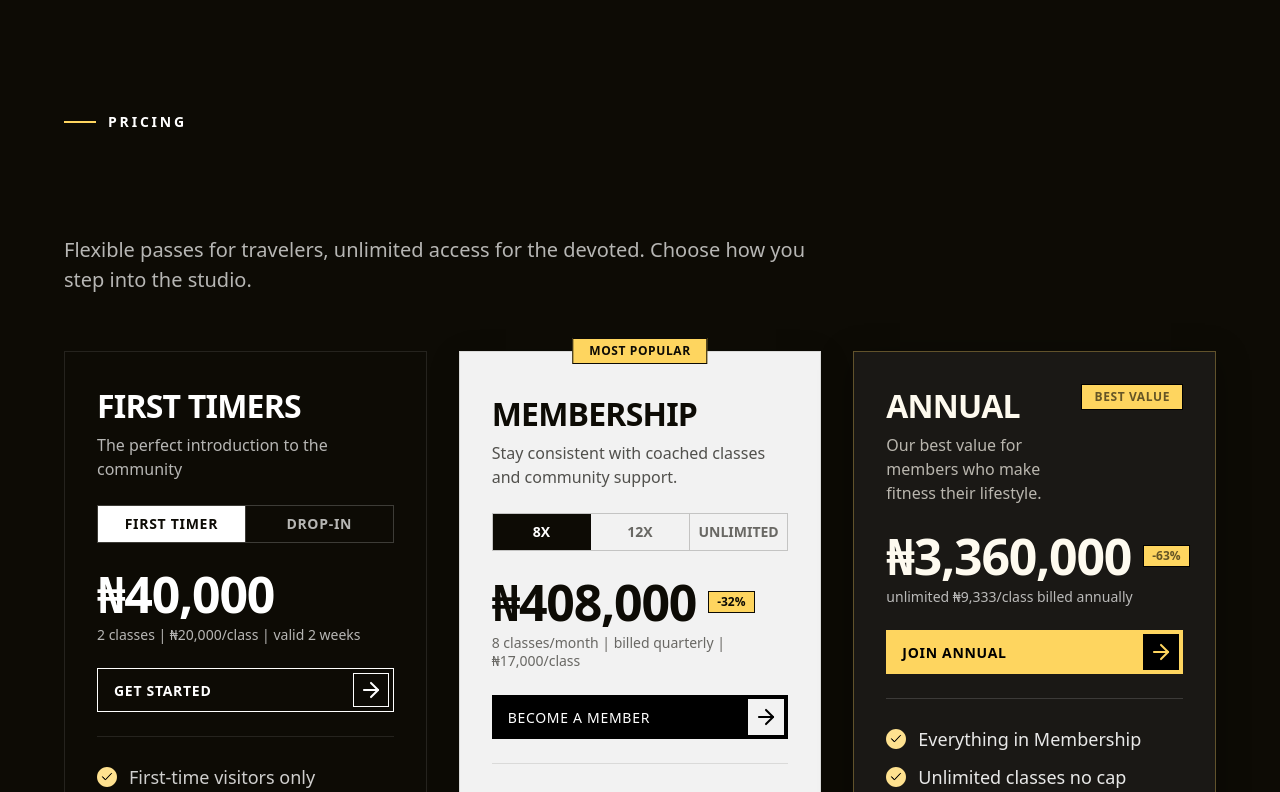
PricingSection Component › toggles between First Timer and Drop-In plans in FirstTimersCard
Expected: the text "₦40,000" is shown, x1=97 y1=566 x2=274 y2=622
# Click Drop-In
Click the button "Drop-In": (319, 524) x1=246 y1=506 x2=393 y2=542
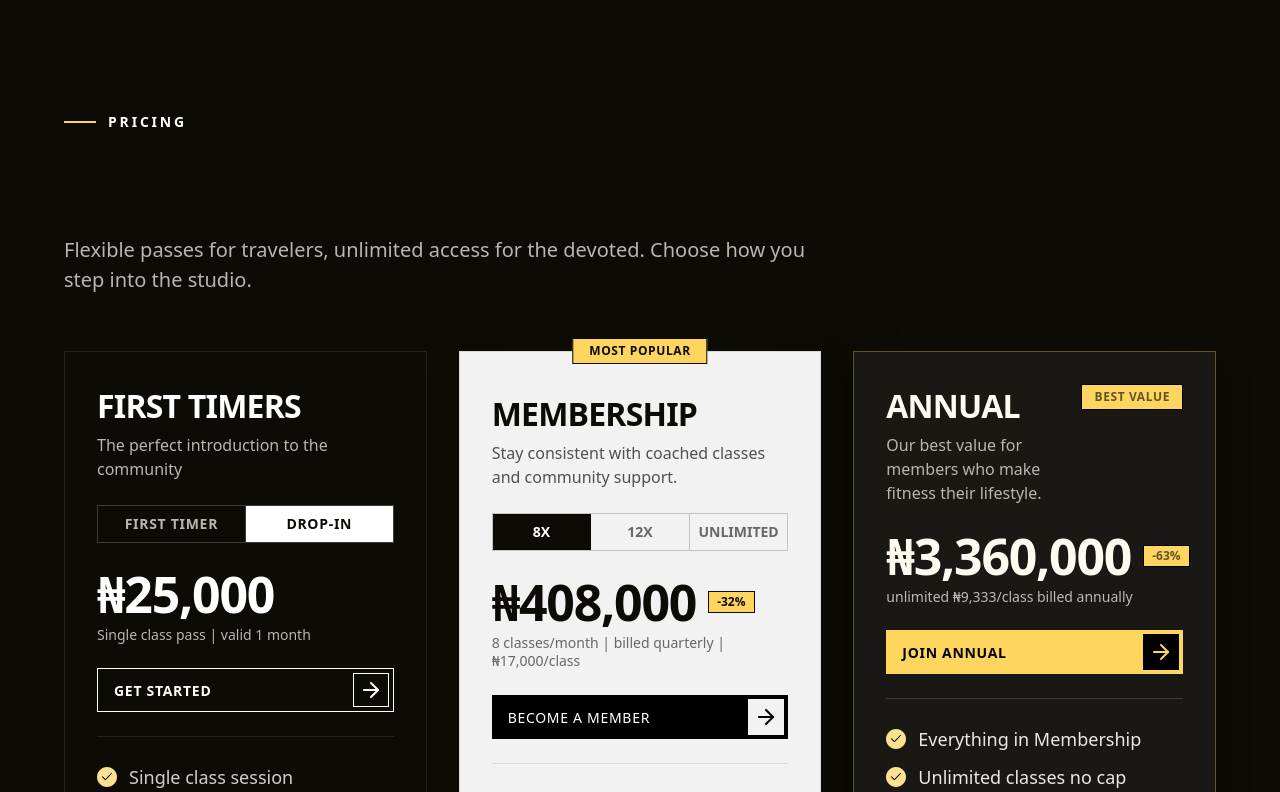
Now the text "₦25,000" is shown, box x1=97 y1=566 x2=274 y2=622
Now the text "Single class pass | valid 1 month" is shown, box x1=97 y1=626 x2=311 y2=644
# Switch back to First Timer
Click the button "First Timer": (171, 524) x1=98 y1=506 x2=245 y2=542
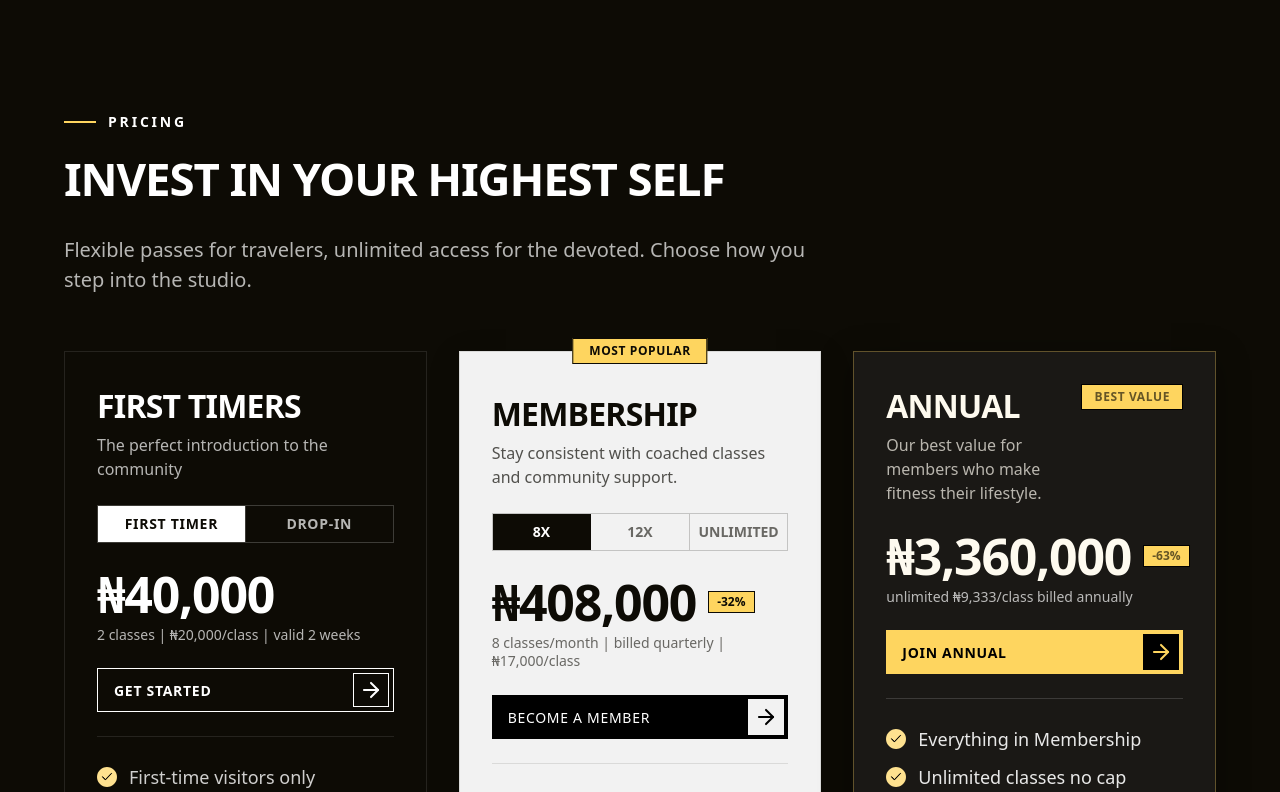
Now the text "₦40,000" is shown, box x1=97 y1=566 x2=274 y2=622
